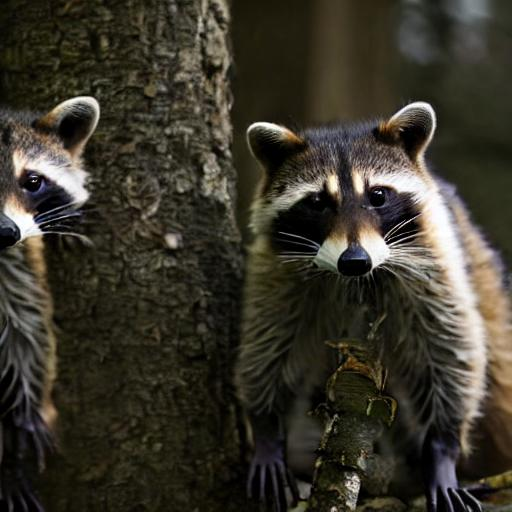raccoon: (222, 97, 512, 437), (0, 83, 113, 420)
